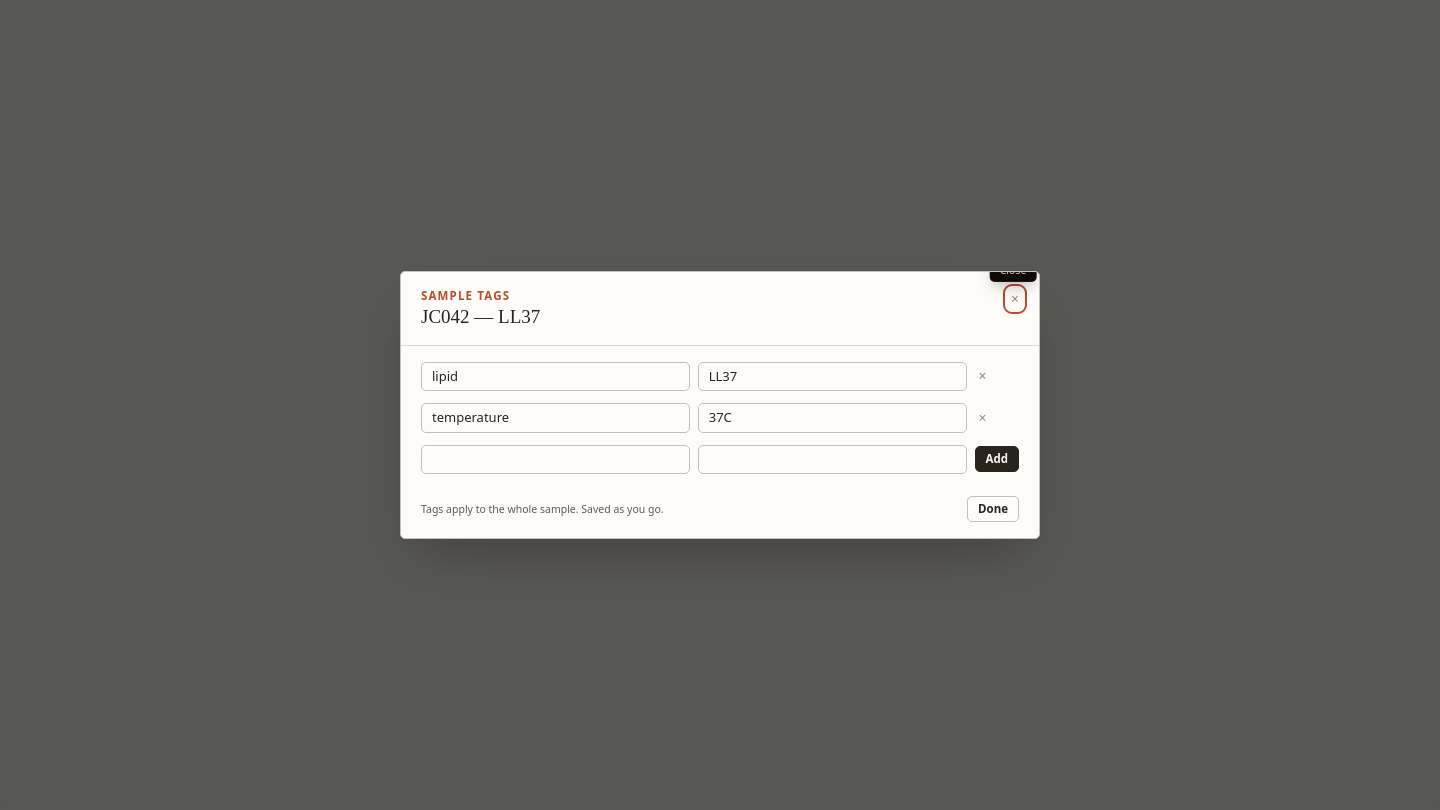
Test case: <ManageTagsModal> › the edit-collision alert clears when the key is changed again
This screenshot has width=1440, height=810.
Replace the text in the dropdown named "Key for tag 2" with "lipid" at (555, 418), box [432, 408, 679, 428]
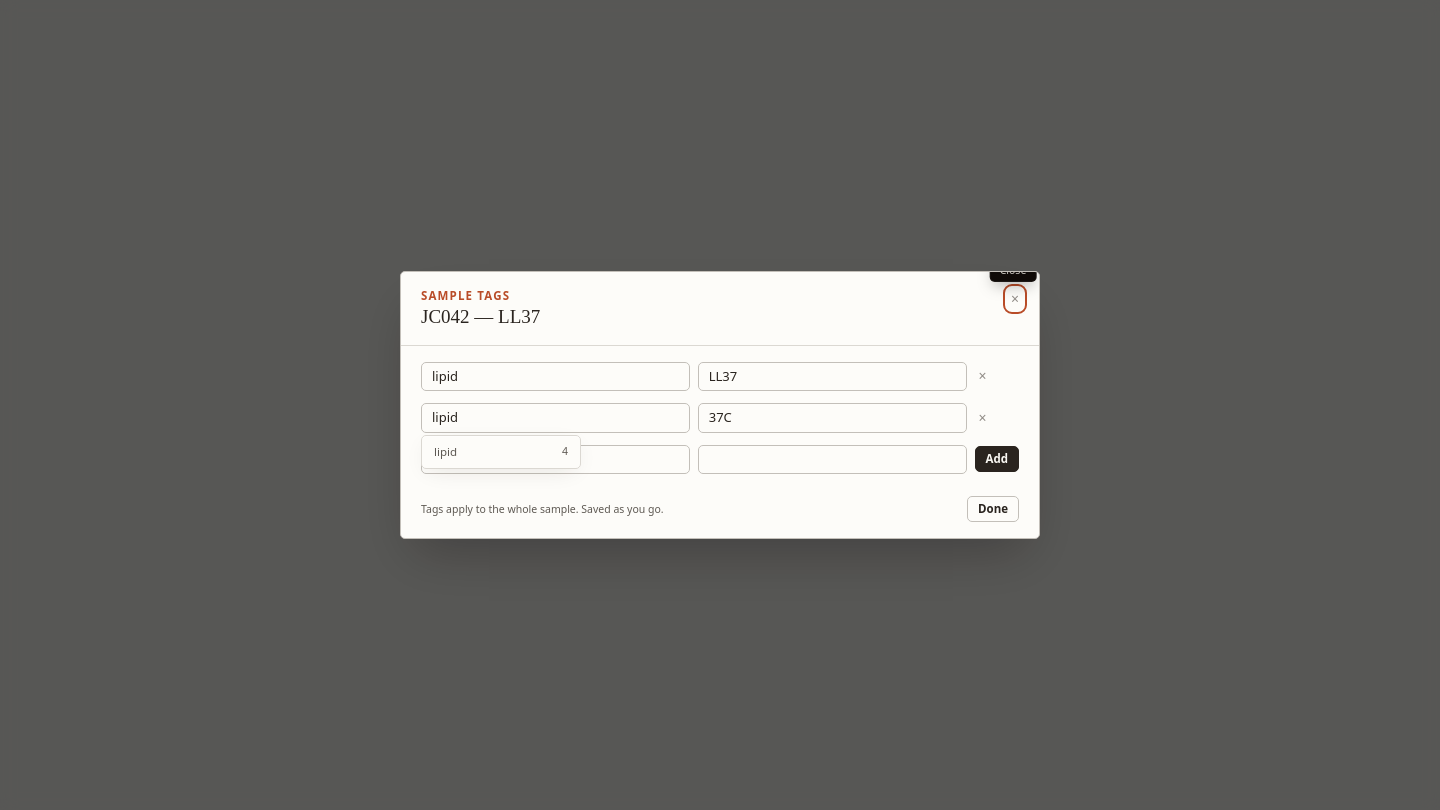
Press Enter in the dropdown named "Key for tag 2", box [432, 408, 679, 428]
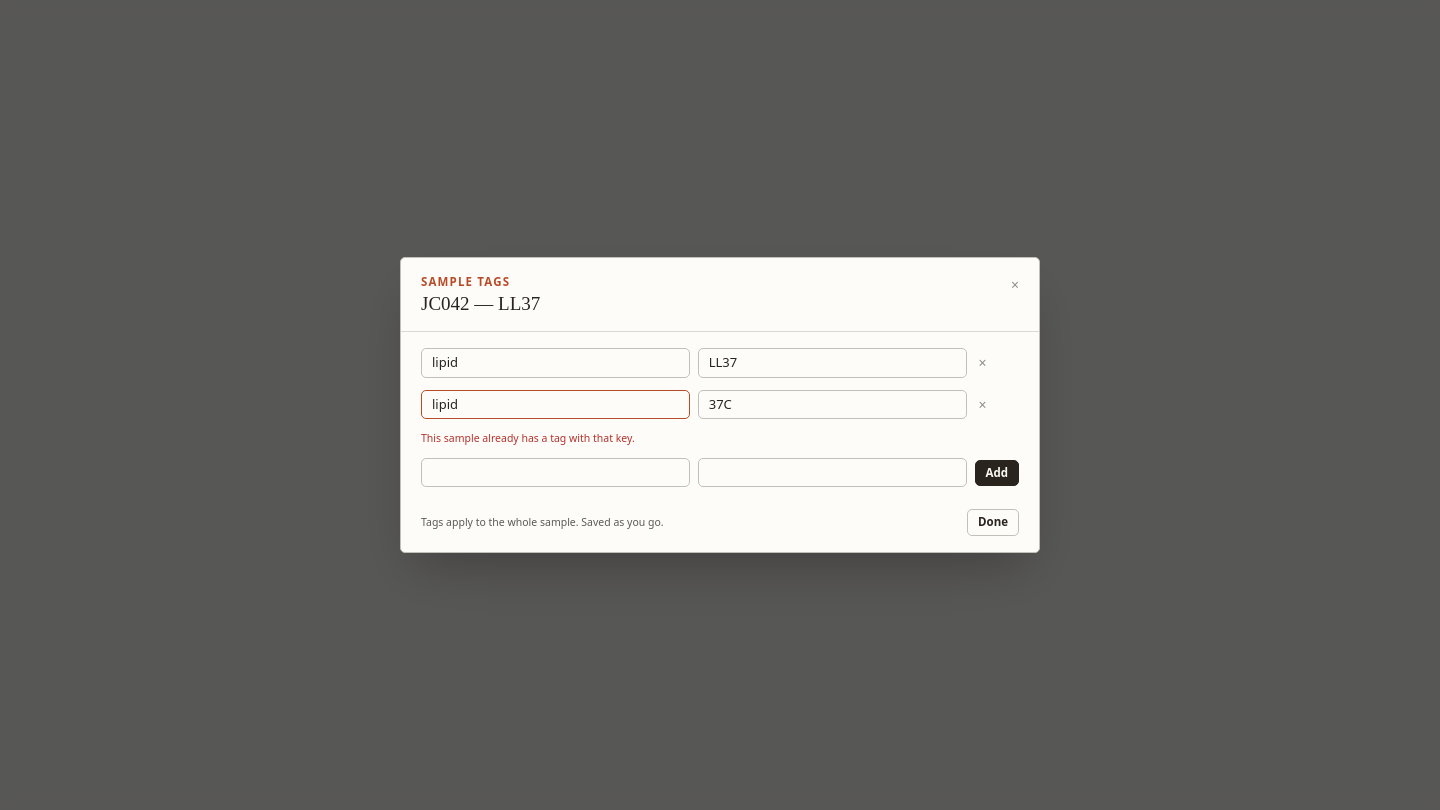
expect the message "This sample already has a tag with that key." is shown: met, box [421, 431, 635, 445]
// Typing a different key clears the per-row error.
Replace the text in the dropdown named "Key for tag 2" with "dose" at (555, 405), box [432, 395, 679, 414]
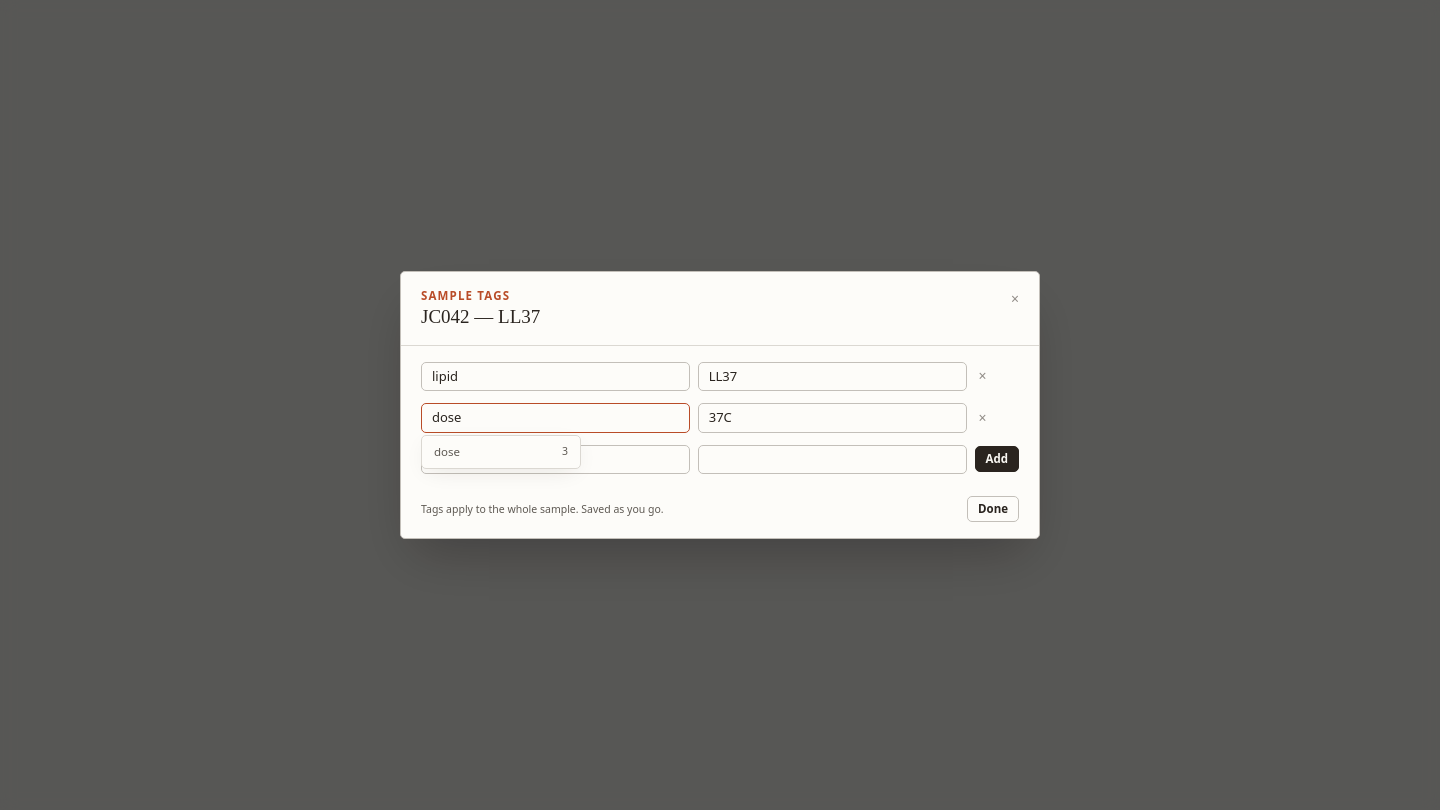
expect the message with test id "manage-tag-edit-dup-error" is gone: met
